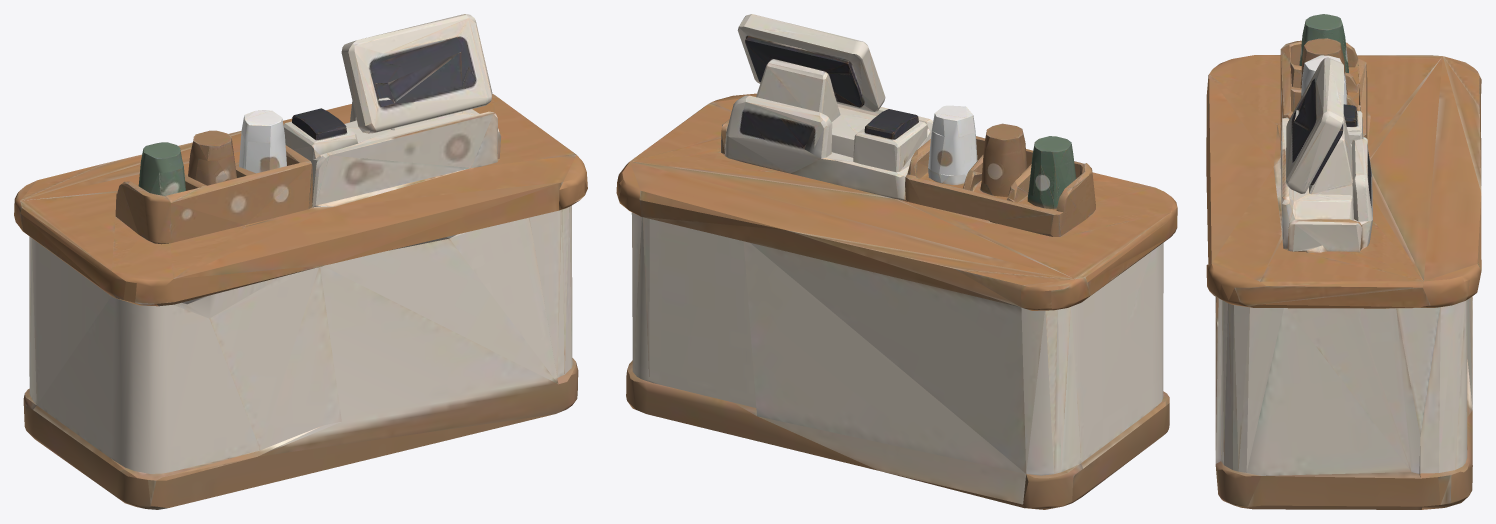
File: cafe-counter.glb
3 renders of one model, left to right at view 1: azimuth 30°, elevation 25°; view 2: azimuth 150°, elevation 25°; view 3: azimuth 270°, elevation 25°, orthographic. The views are drawn at different scales.
Visible parts, largest first — view 1: cafe-counter-fit; view 2: cafe-counter-fit; view 3: cafe-counter-fit.
Boxes of the visible parts, x1,y1,x2,y2 form: cafe-counter-fit: [14, 14, 587, 509]; cafe-counter-fit: [616, 14, 1177, 509]; cafe-counter-fit: [1206, 14, 1481, 509].
Bounding box in the file's own units: 2.4 × 1.78 × 1.21.
1 material, 1 textured.
